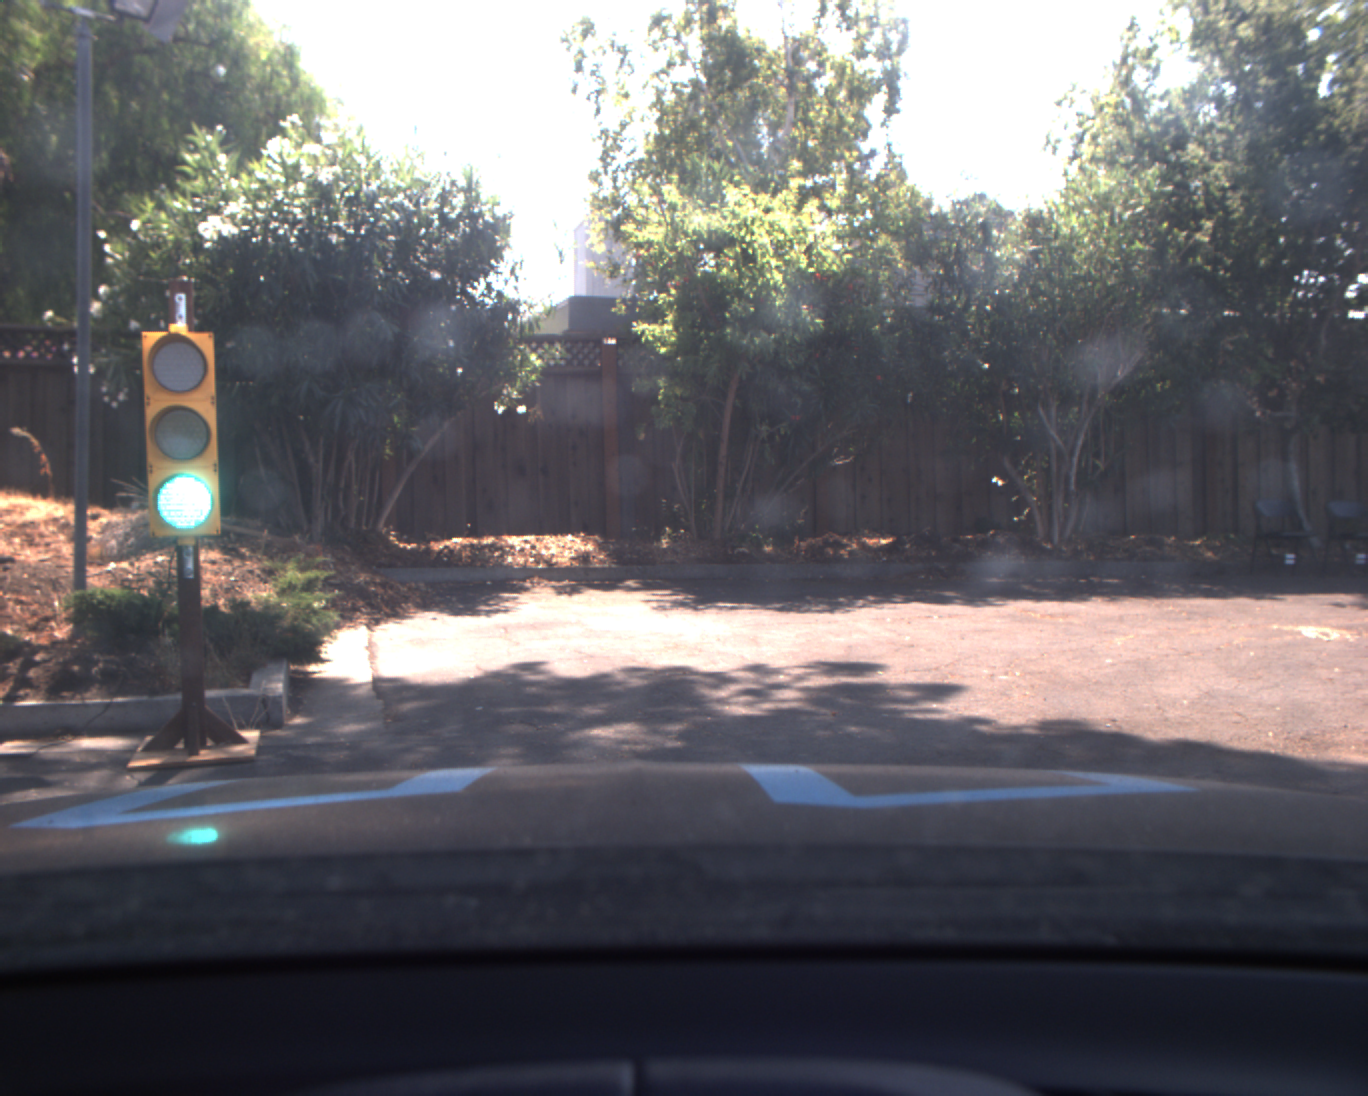green: (134, 325, 226, 540)
